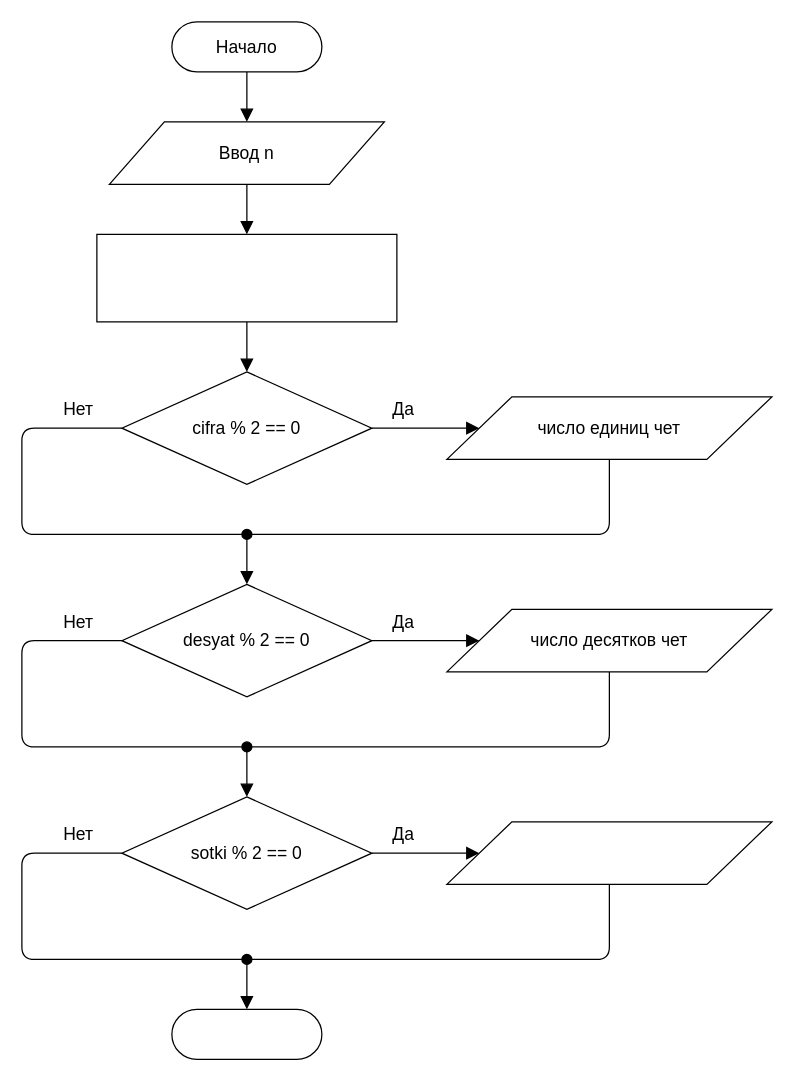
Image size: 794x1081. Some labels were removed from this diagram. Here are the shapes that lost their labels. From the top down, the centre of each, then its label:
[246,277]: cifra = n % 10; desyat = n / 10 % 10; sotki = n / 100 % 10
[609,852]: число сотен чет
[246,1033]: Конец
